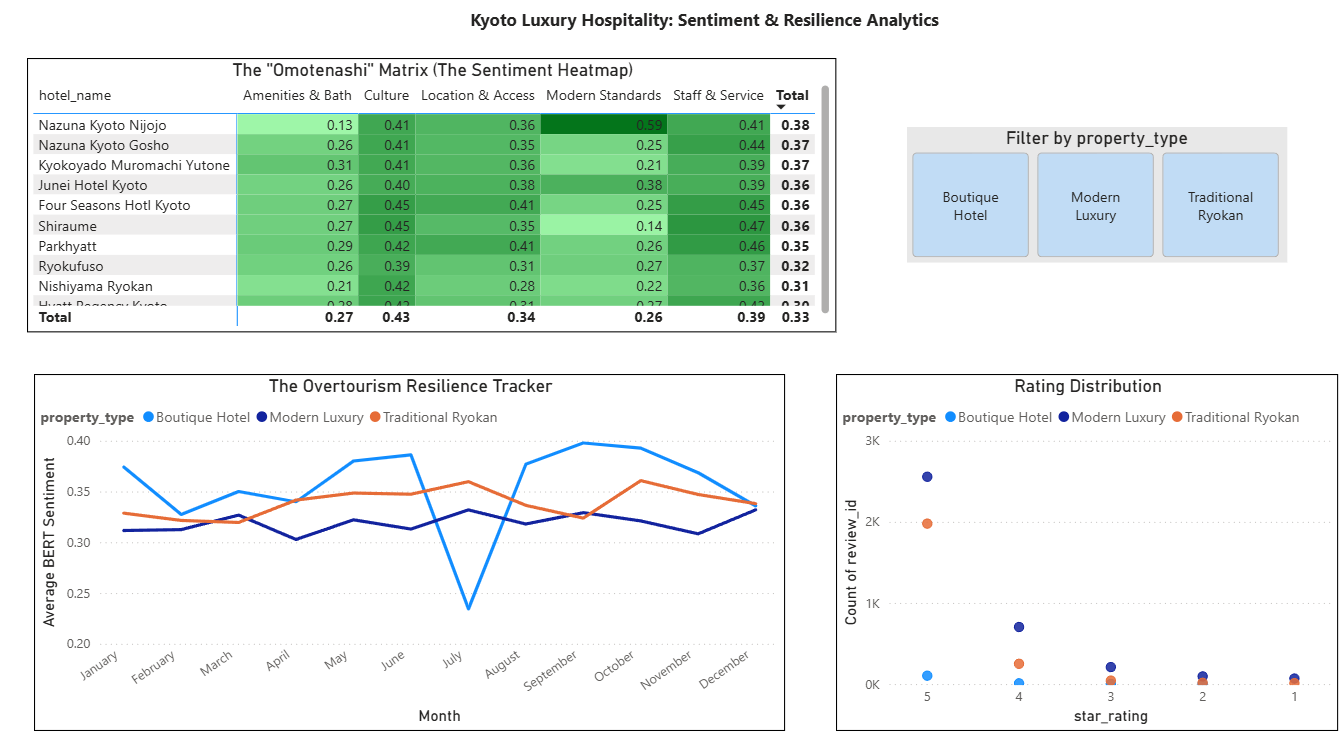

The dashboard page shown, as its layout file describes it:
{"tool":"powerbi","page":{"name":"Page 1","canvas":[1280,720],"ordinal":0},"visuals":[{"type":"pivotTable","title":"The \"Omotenashi\" Matrix (The Sentiment Heatmap)","fields":{"Rows":["public dim_hotels.hotel_name"],"Columns":["public dim_topics.topic_name"],"Values":["public fact_topic_sentiment.Average BERT Sentiment"]},"box":[30.8,61.5,763.5,258.8],"z":0},{"type":"lineChart","title":"The Overtourism Resilience Tracker","fields":{"Category":["public fact_reviews.review_date.Variation.Date Hierarchy.Month"],"Y":["public fact_topic_sentiment.Average BERT Sentiment"],"Series":["public dim_hotels.property_type"]},"box":[37.8,359.6,708.9,337],"z":1000},{"type":"scatterChart","title":"Rating Distribution","fields":{"X":["public fact_reviews.star_rating"],"Y":["public fact_reviews.review_id"],"Series":["public dim_hotels.property_type"]},"box":[794.8,359.6,473.9,337],"z":2000},{"type":"textbox","box":[444.3,9.5,478.3,43.5],"z":3000},{"type":"advancedSlicerVisual","title":"Filter by property_type","fields":{"Values":["public dim_hotels.property_type"]},"box":[861.8,126.5,358.7,128.4],"z":3001}]}

Visuals, with their boxes in screenshot pixels (x1, y1, x2, y2), scaled from the page's 1280x720 canvas onto the 1344x750 screenshot:
"The "Omotenashi" Matrix (The Sentiment Heatmap)" pivotTable: bbox(32, 64, 834, 334)
"The Overtourism Resilience Tracker" lineChart: bbox(40, 375, 784, 726)
"Rating Distribution" scatterChart: bbox(835, 375, 1332, 726)
textbox: bbox(467, 10, 969, 55)
"Filter by property_type" advancedSlicerVisual: bbox(905, 132, 1282, 266)
